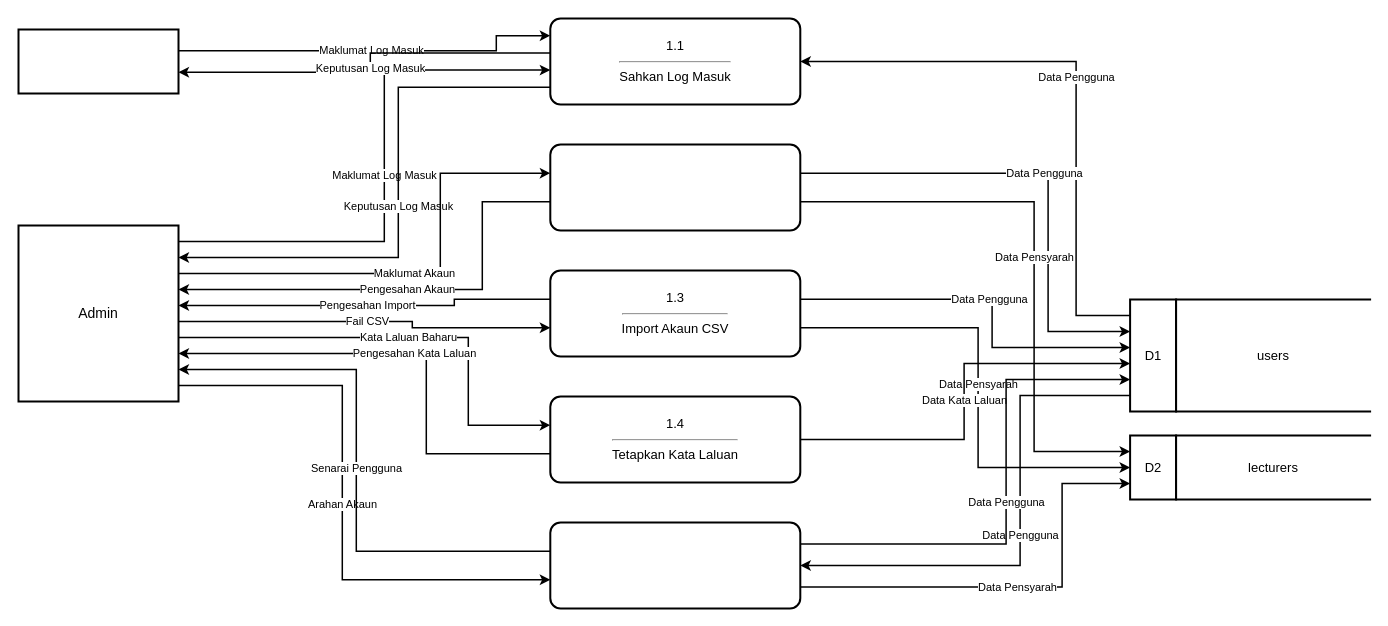
This 1388x626 diagram has some shape labels left out. The centre of each missing label's shape, as x and y in pixels:
"1.2 Cipta Akaun" goes at point 675,187.
"1.5 Nyahaktifkan atau Padam Akaun" goes at point 675,565.
"Pensyarah" goes at point 98,61.
